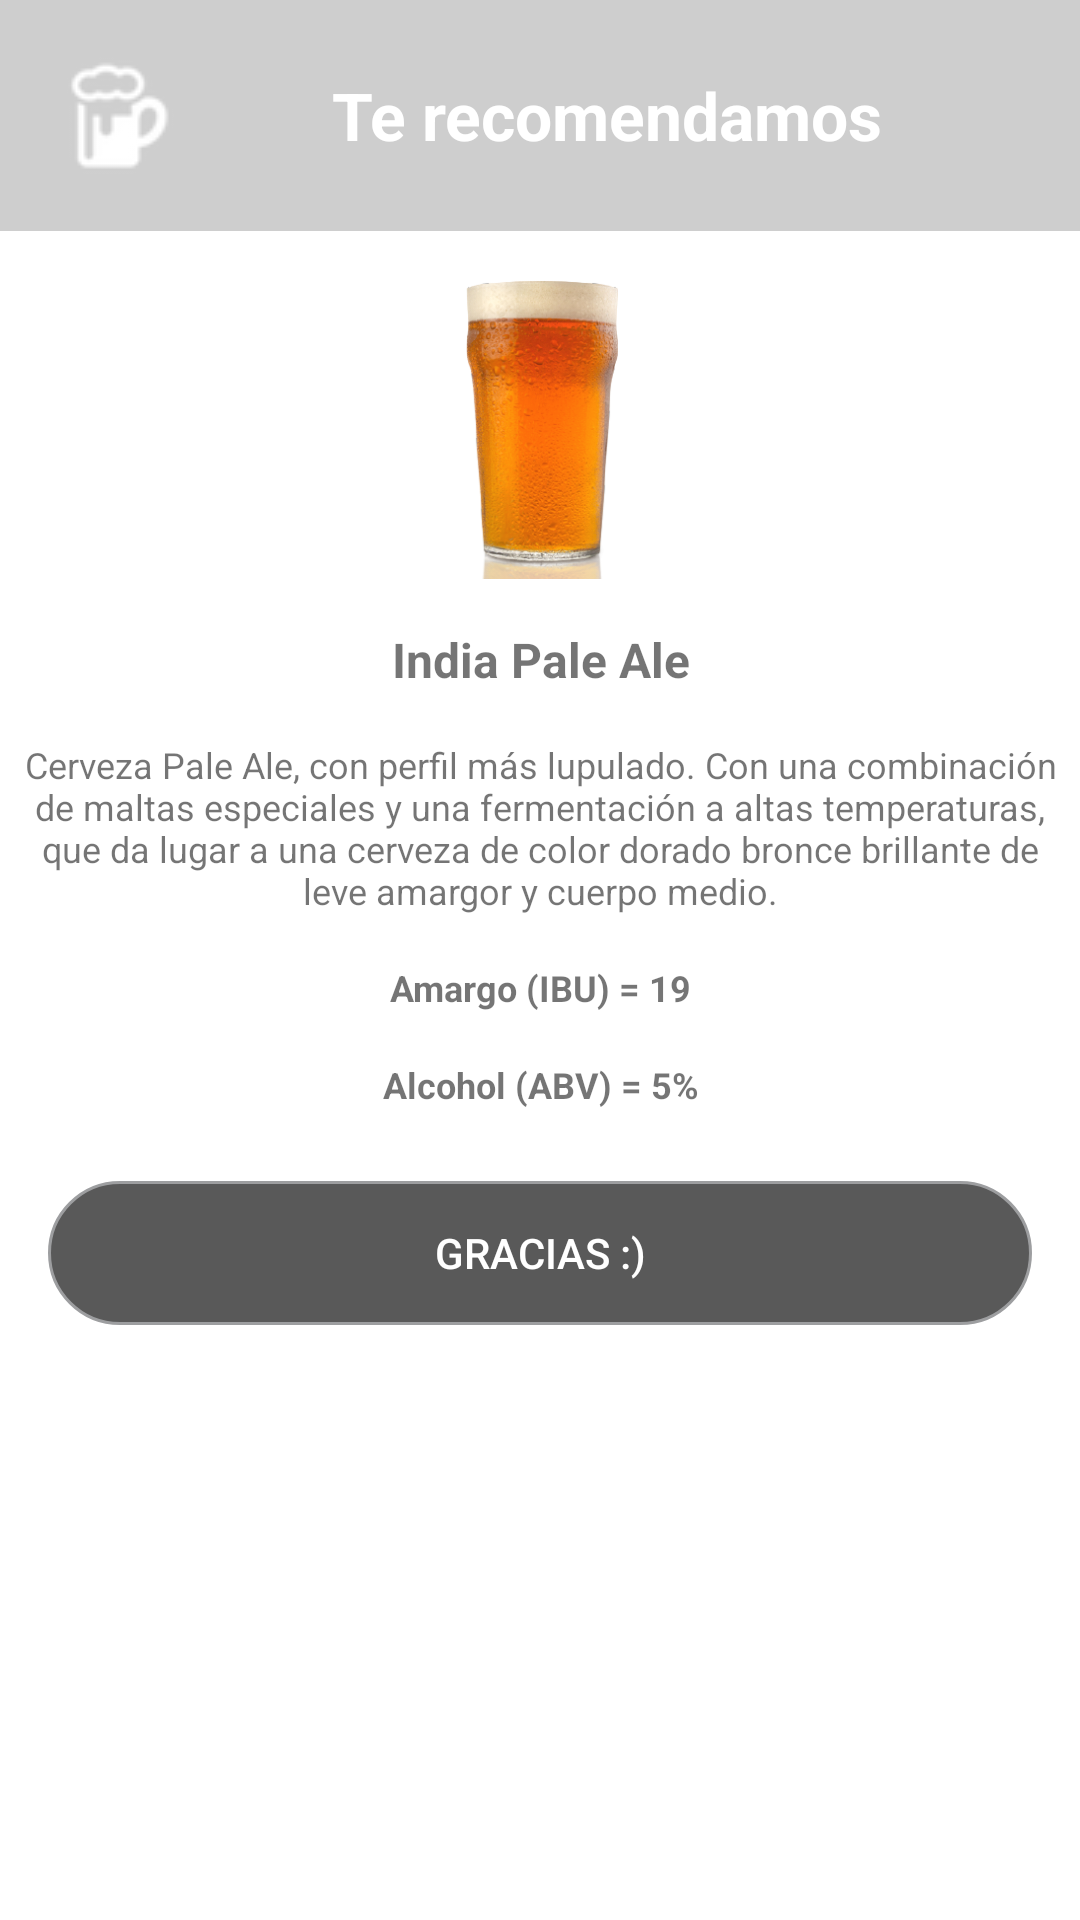

Icons on this 1080w x 1920h Android screen, each with its box as bbox(x1, y1, x2, y2):
cervezaporron: bbox(466, 281, 618, 579)
